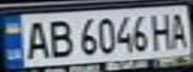0: (97, 15, 118, 55)
4: (115, 12, 136, 54)
6: (75, 15, 100, 56), (130, 11, 151, 53)
A: (21, 18, 51, 61), (166, 9, 193, 50)
B: (45, 17, 75, 60)
H: (148, 10, 175, 51)
